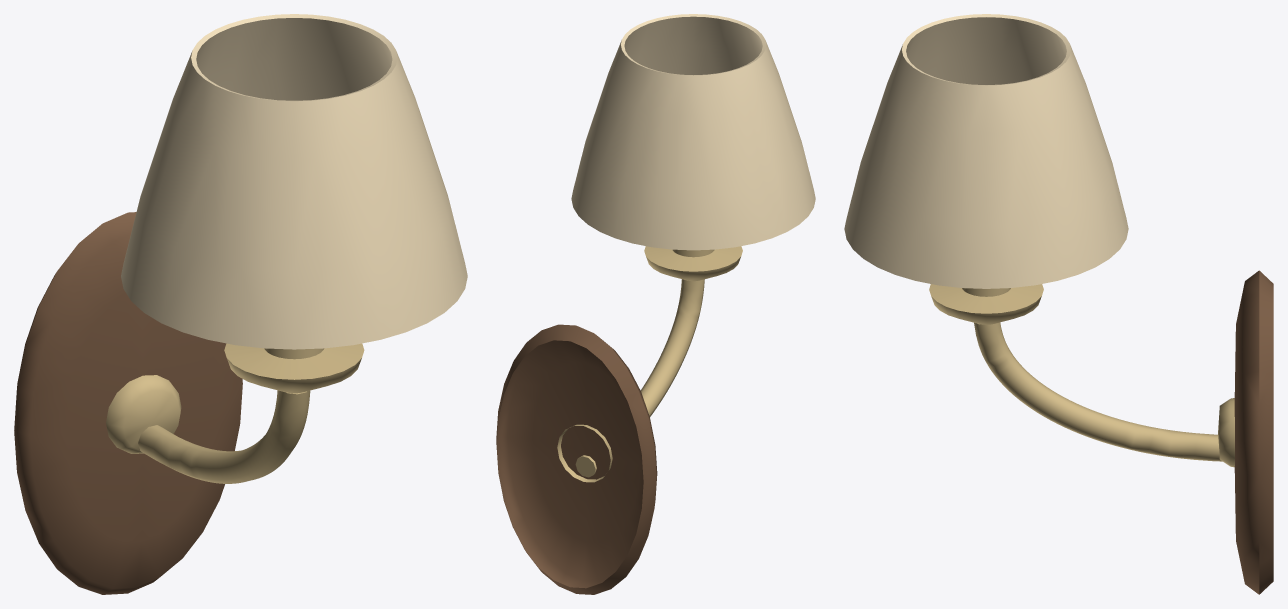
The model's file is lp_sconce.glb.
The picture shows the model from 3 angles, left to right: view 1: azimuth 30°, elevation 25°; view 2: azimuth 150°, elevation 25°; view 3: azimuth 270°, elevation 25°; orthographic projection. The views are drawn at different scales.
Parts seen in each view (by area): view 1: lp_sconce; view 2: lp_sconce; view 3: lp_sconce.
Boxes of the visible parts, bbox=[...] form: lp_sconce: bbox=[14, 14, 467, 594]; lp_sconce: bbox=[496, 14, 815, 594]; lp_sconce: bbox=[844, 14, 1273, 594].
Size of the model in its own units: 0.1584 by 0.3314 by 0.2392.
